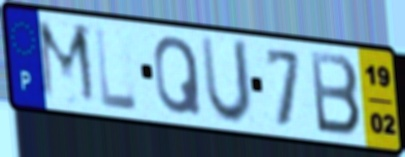7: (263, 47, 305, 131)
B: (308, 48, 364, 139)
L: (92, 24, 141, 113)
M: (33, 15, 100, 110)
Q: (152, 33, 205, 118)
U: (198, 33, 255, 129)
